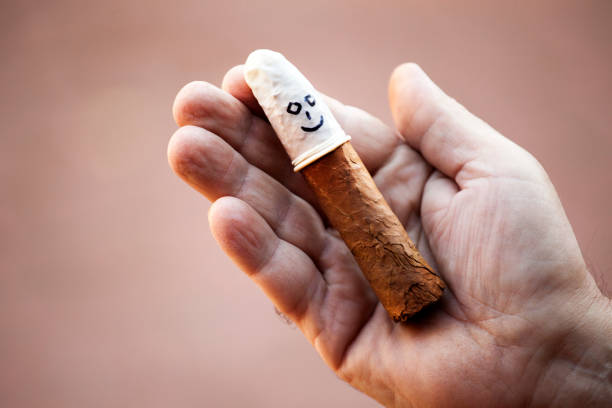cigarette: (246, 46, 449, 329)
